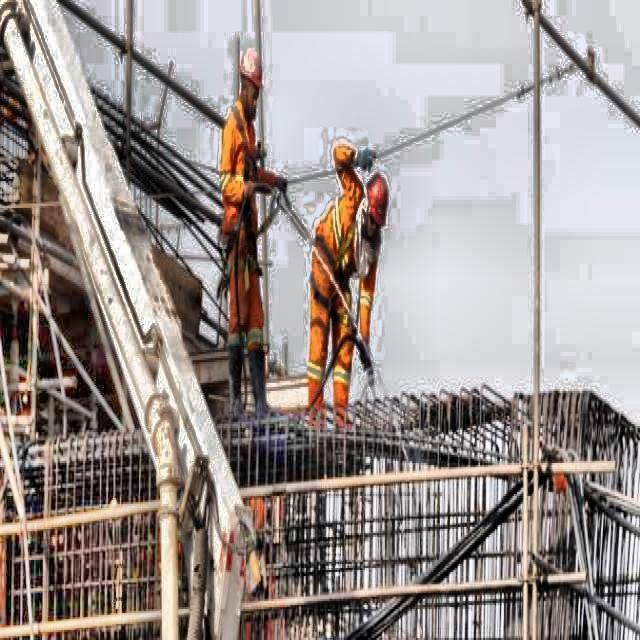person: (216, 45, 284, 428), (306, 134, 394, 398)
